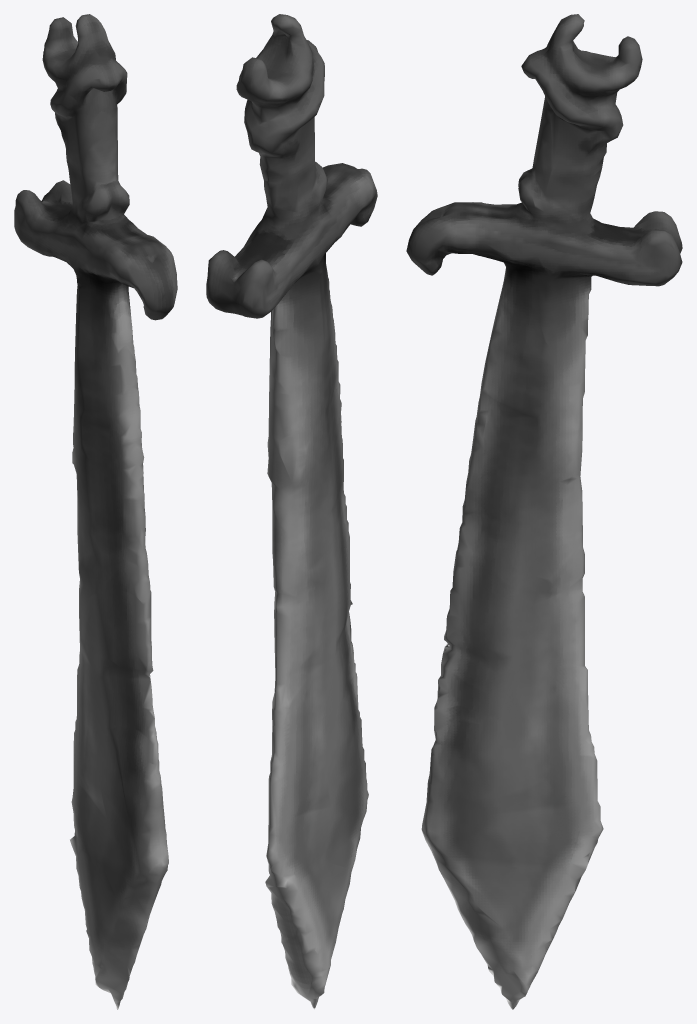
The model's file is Sword.fbx.
3 renders of one model, left to right at view 1: azimuth 30°, elevation 25°; view 2: azimuth 150°, elevation 25°; view 3: azimuth 270°, elevation 25°, orthographic. The views are drawn at different scales.
Visible parts, largest first — view 1: Sword_V1; view 2: Sword_V1; view 3: Sword_V1.
Part boxes in pixels (x1=…): Sword_V1: x1=14, y1=14, x2=177, y2=1009; Sword_V1: x1=206, y1=14, x2=377, y2=1009; Sword_V1: x1=406, y1=14, x2=682, y2=1009.
Bounding box in the file's own units: 4.57 × 65.81 × 16.55.
